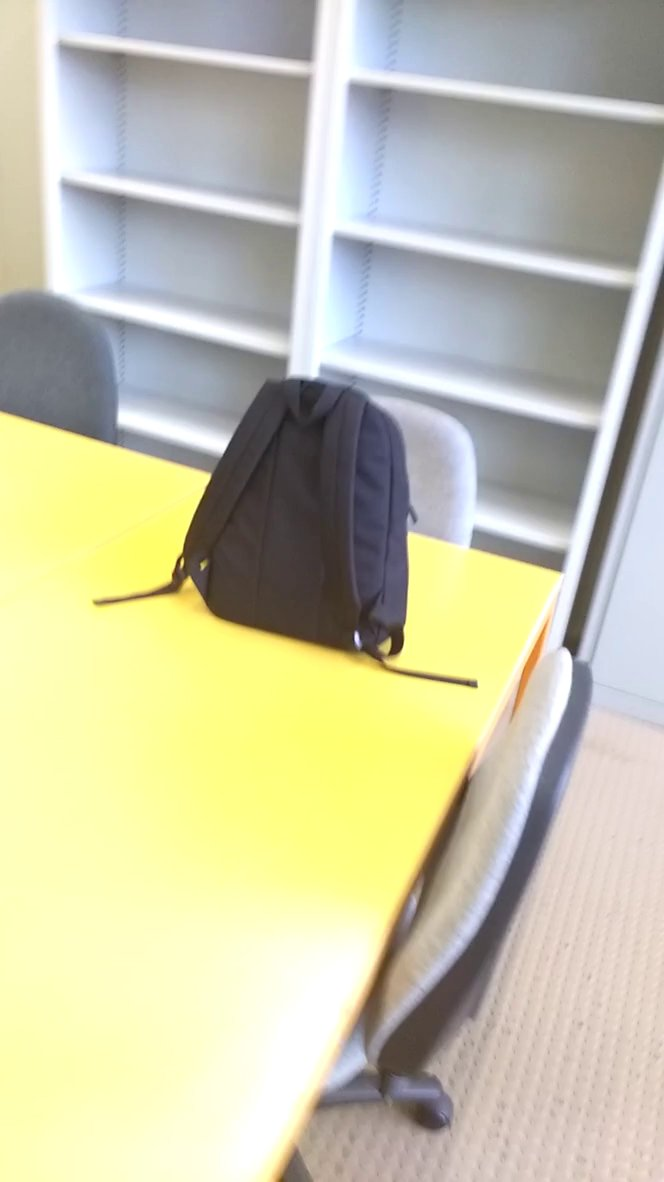bag: (88, 370, 486, 692)
chair: (347, 619, 604, 1112)
